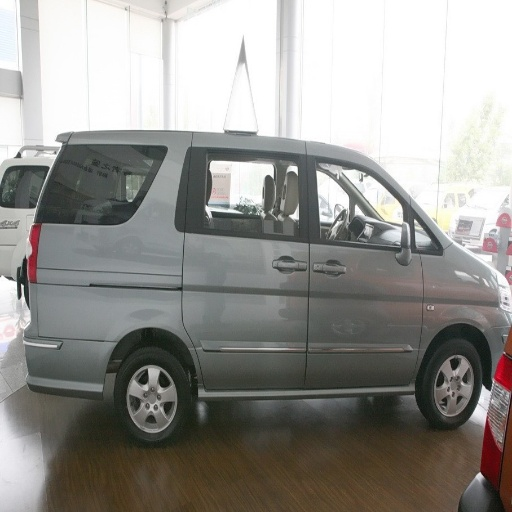back_bumper: (22, 285, 77, 392)
trunk: (32, 224, 160, 392)
